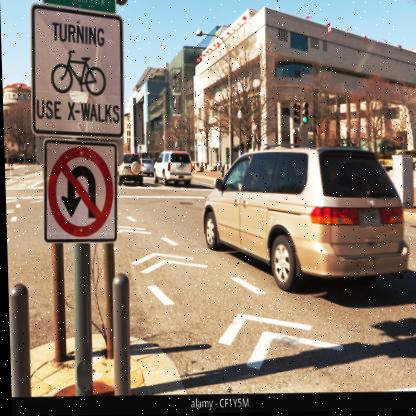No U-turn: (40, 136, 116, 246)
